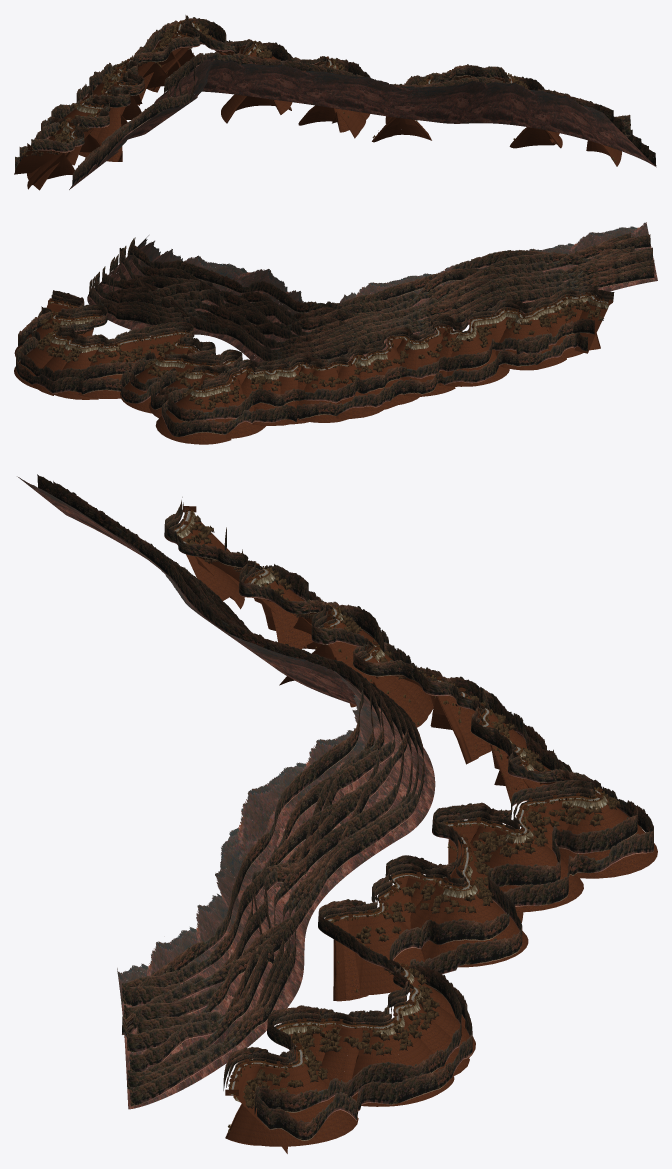
The model's file is nagao_gta.glb.
3 renders of one model, top to bottom at view 1: azimuth 30°, elevation 25°; view 2: azimuth 150°, elevation 25°; view 3: azimuth 270°, elevation 25°, orthographic. The views are drawn at different scales.
Visible parts, largest first — view 1: vis_174, vis_143, vis_94, vis_77, col_118, vis_42, vis_127, col_11, col_50, col_85, vis_25, vis_112 (+19 smaller); view 2: vis_42, vis_77, vis_159, vis_25, vis_128, vis_112, vis_144, col_33, vis_62, vis_23, col_150, col_68 (+29 smaller); view 3: vis_159, vis_112, vis_77, vis_128, col_118, vis_179, vis_174, col_150, vis_143, vis_42, vis_144, vis_94 (+20 smaller).
Boxes of the visible parts, x1,y1,x2,y2 form: vis_174: [432, 81, 631, 152]; vis_143: [286, 66, 451, 121]; vis_94: [154, 55, 285, 103]; vis_77: [89, 32, 280, 97]; col_118: [219, 44, 415, 142]; vis_42: [34, 88, 191, 147]; vis_127: [259, 64, 324, 106]; col_11: [14, 140, 73, 190]; col_50: [48, 107, 122, 174]; col_85: [96, 47, 237, 123]; vis_25: [41, 72, 143, 129]; vis_112: [213, 39, 363, 76]; vis_42: [410, 250, 586, 369]; vis_77: [222, 294, 394, 416]; vis_159: [68, 240, 203, 333]; vis_25: [346, 323, 497, 410]; vis_128: [172, 268, 288, 337]; vis_112: [121, 303, 283, 403]; vis_144: [20, 323, 170, 394]; col_33: [339, 332, 501, 419]; vis_62: [181, 369, 314, 436]; vis_23: [586, 232, 654, 287]; col_150: [19, 335, 169, 399]; col_68: [179, 375, 315, 444]; vis_159: [134, 869, 335, 1063]; vis_112: [335, 760, 537, 962]; vis_77: [335, 658, 537, 819]; vis_128: [240, 749, 336, 934]; col_118: [336, 805, 542, 992]; vis_179: [134, 1009, 336, 1140]; vis_174: [125, 859, 304, 1086]; col_150: [333, 942, 475, 1092]; vis_143: [220, 745, 372, 953]; vis_42: [134, 533, 335, 644]; vis_144: [335, 925, 484, 1087]; vis_94: [313, 663, 435, 837].
Bounding box in the file's own units: 2908 × 965 × 1919.
Materials: 24 (24 with a texture image).
